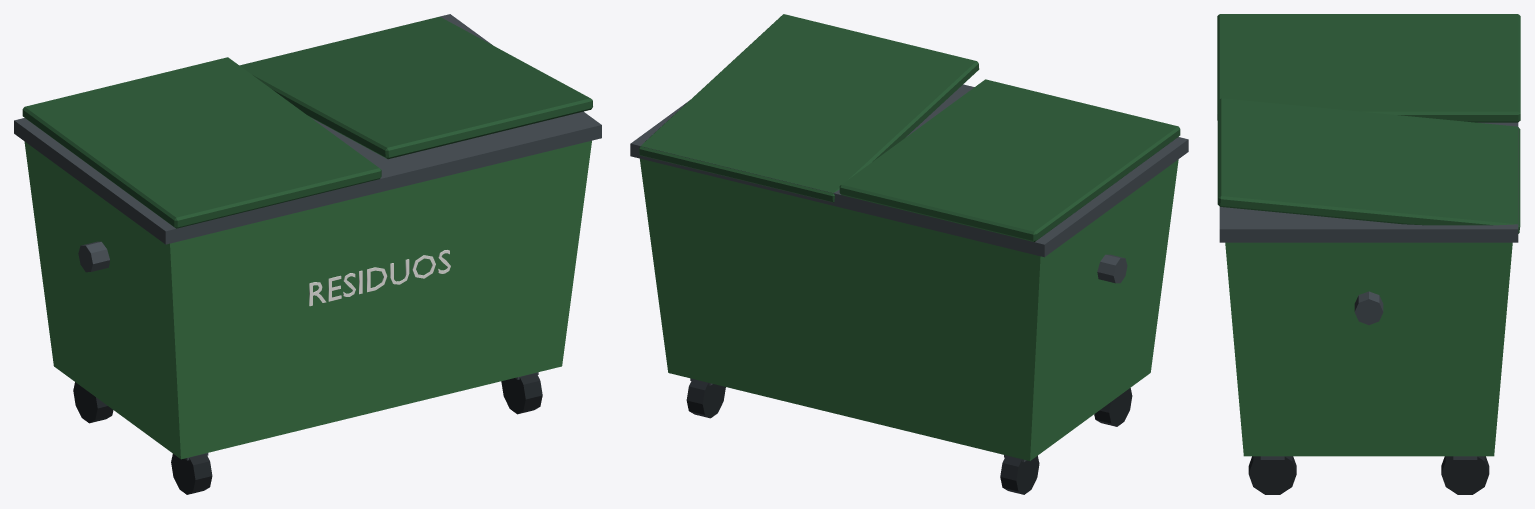
File: Dumpster.fbx
3 renders of one model, left to right at view 1: azimuth 30°, elevation 25°; view 2: azimuth 150°, elevation 25°; view 3: azimuth 270°, elevation 25°, orthographic. The views are drawn at different scales.
Parts seen in each view (by area): view 1: Dumpster; view 2: Dumpster; view 3: Dumpster.
Boxes of the visible parts, x1,y1,x2,y2 form: Dumpster: (14, 14, 601, 494); Dumpster: (630, 14, 1188, 494); Dumpster: (1217, 14, 1520, 494).
Bounding box in the file's own units: 2.1 × 1.44 × 1.26.
